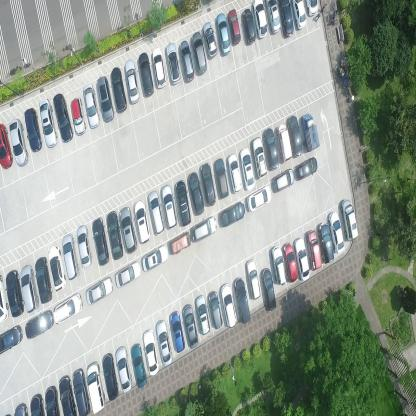car: (85, 361, 106, 413), (53, 93, 74, 144), (20, 264, 40, 314), (39, 97, 58, 149), (8, 119, 29, 166), (106, 210, 124, 262), (118, 205, 137, 254), (53, 292, 83, 323), (24, 308, 53, 340), (23, 107, 43, 153), (48, 244, 67, 292), (5, 269, 24, 317), (91, 216, 109, 266), (61, 232, 79, 282), (96, 75, 114, 124), (338, 198, 358, 242), (72, 370, 91, 416), (34, 256, 52, 304), (133, 200, 152, 245), (82, 83, 100, 130), (181, 303, 199, 350), (115, 344, 132, 393), (58, 374, 78, 415), (326, 210, 345, 253), (175, 179, 192, 227), (142, 328, 159, 376), (186, 171, 204, 216), (159, 185, 177, 230), (147, 190, 165, 235), (114, 259, 141, 289), (86, 276, 113, 306), (156, 318, 172, 368), (294, 233, 310, 282), (102, 352, 118, 401), (218, 200, 245, 229), (0, 322, 23, 356), (234, 276, 250, 324), (301, 111, 320, 151), (111, 66, 127, 113), (220, 282, 236, 329), (318, 220, 335, 264), (138, 51, 154, 97), (141, 244, 168, 271), (191, 214, 217, 242), (191, 30, 207, 75), (263, 126, 279, 171), (240, 146, 256, 191), (200, 162, 216, 207), (76, 223, 92, 268), (260, 267, 276, 312), (247, 183, 271, 213), (179, 38, 195, 82), (252, 135, 268, 179), (283, 239, 299, 283), (169, 311, 185, 355), (130, 344, 146, 388), (125, 59, 140, 105), (194, 293, 210, 336), (270, 245, 287, 285), (276, 122, 292, 164), (227, 151, 243, 193), (213, 158, 229, 200), (246, 258, 262, 300), (216, 12, 231, 56), (288, 113, 303, 157), (70, 96, 86, 137), (207, 289, 223, 330), (251, 0, 268, 38), (307, 227, 322, 270), (0, 122, 14, 168), (277, 0, 294, 37), (202, 21, 218, 60), (152, 46, 166, 89), (166, 42, 180, 84), (170, 230, 191, 257), (242, 8, 257, 45), (272, 168, 294, 193), (296, 155, 317, 181), (265, 0, 280, 35), (227, 8, 241, 45), (0, 269, 9, 323), (291, 0, 307, 30), (45, 386, 60, 416), (29, 393, 44, 415), (305, 0, 320, 19)
